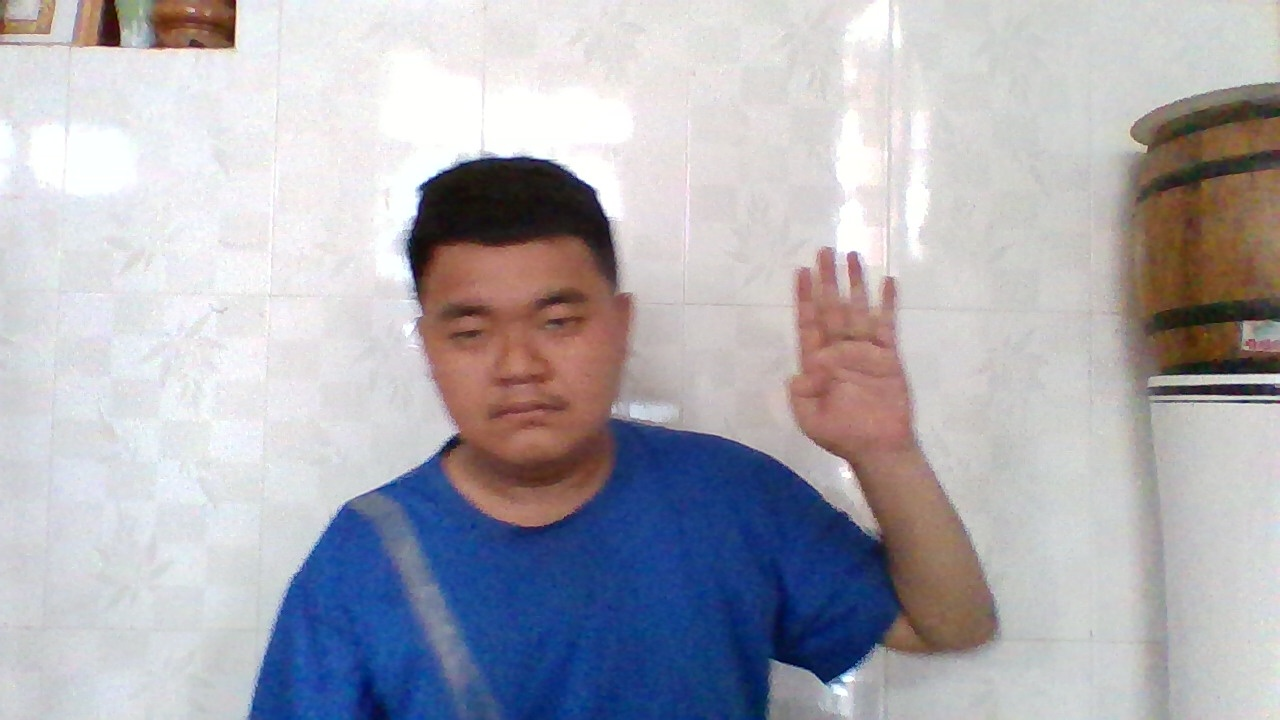B: (779, 240, 908, 466)
